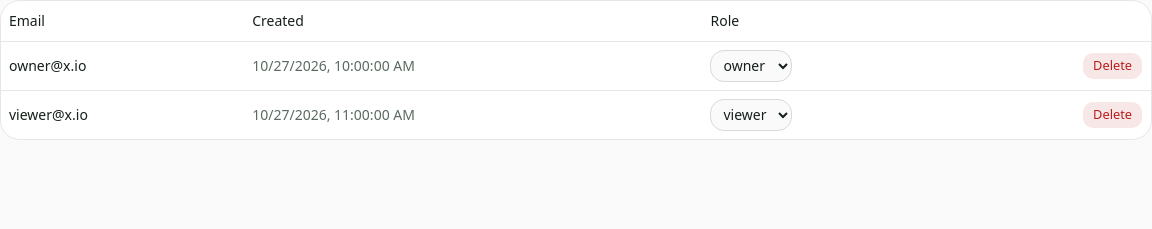
Scenario: deleting the last owner is refused and the row stays
expect the text "owner@x.io" is shown: met, box [1,41,244,90]
Click the button with aria-label "Delete owner@x.io". click: (1113, 66)
box: [1082,52,1143,80]
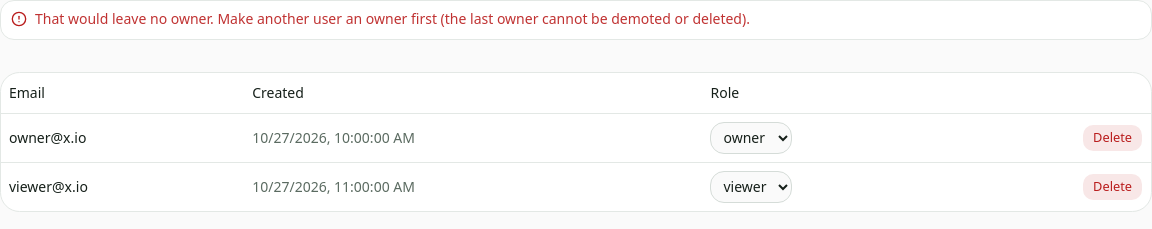
expect the text "owner@x.io" is shown: met, box [1,113,244,162]
expect the message shows "last owner": met, box [35,9,750,28]
